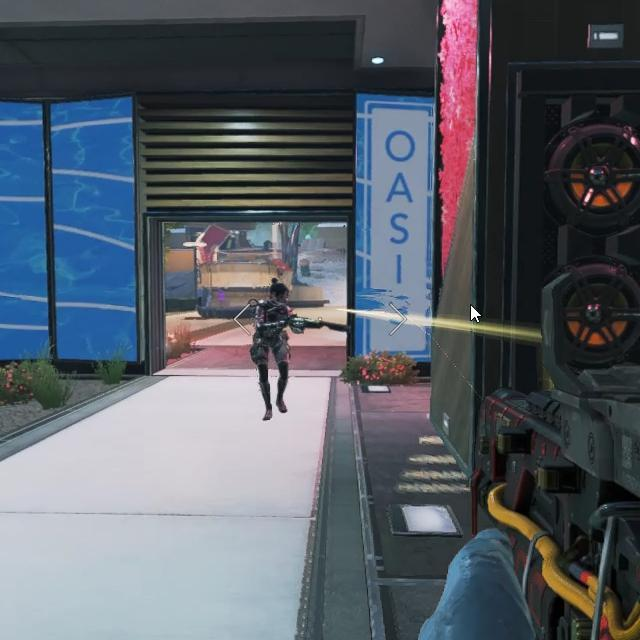avatar: (248, 275, 294, 422)
